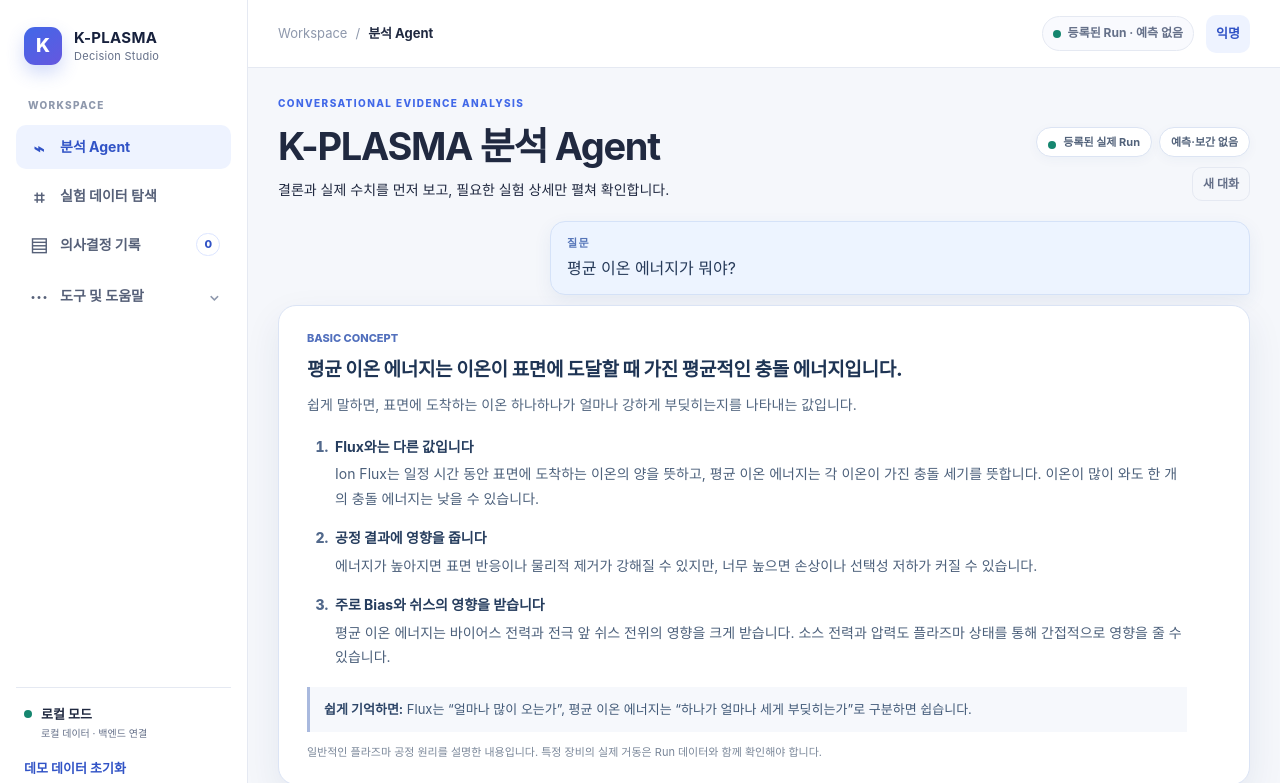
it: late initial decision-list response cannot discard a record saved while the list was loading
Expected: the text "쉽게 기억하면:" is shown, [324,701,403,717]
Click the button "⌗ 실험 데이터 탐색" at (124, 196), box [16,174,231,218]
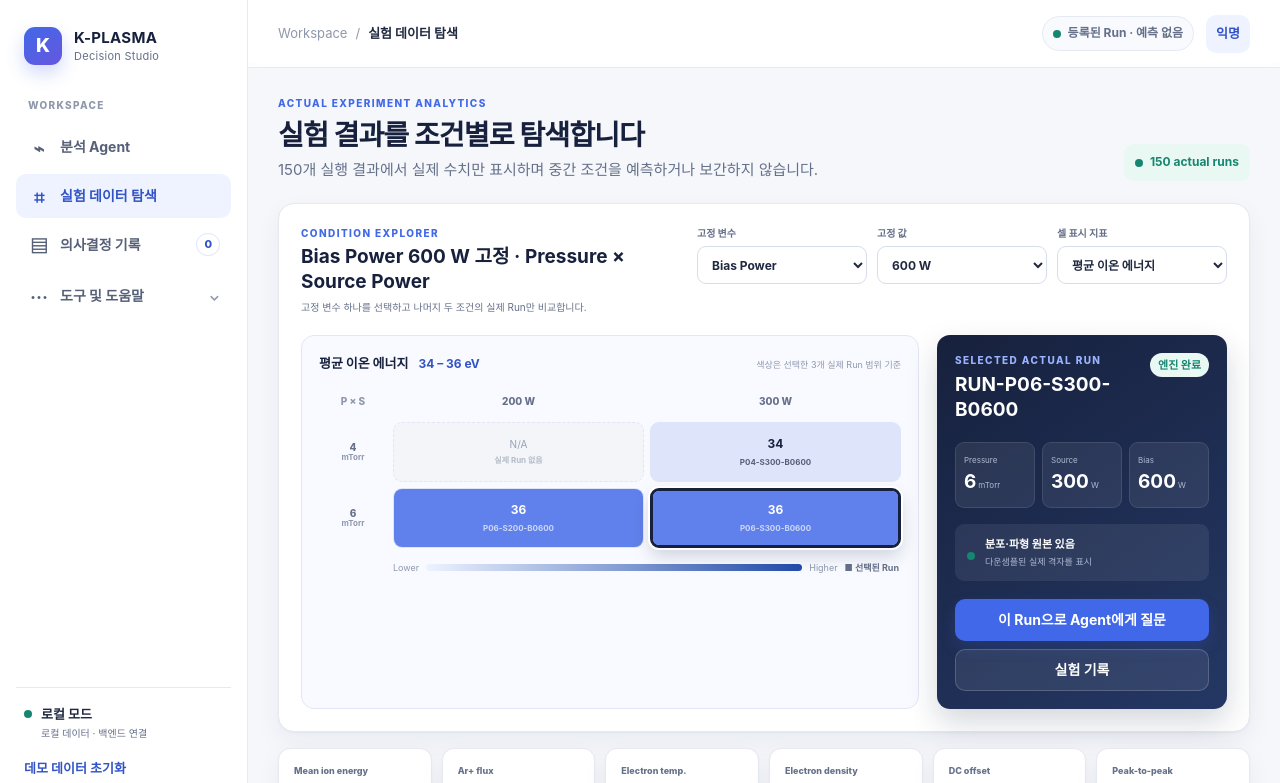
Click the button "실험 기록" at (1082, 670), box [955,649,1209,691]
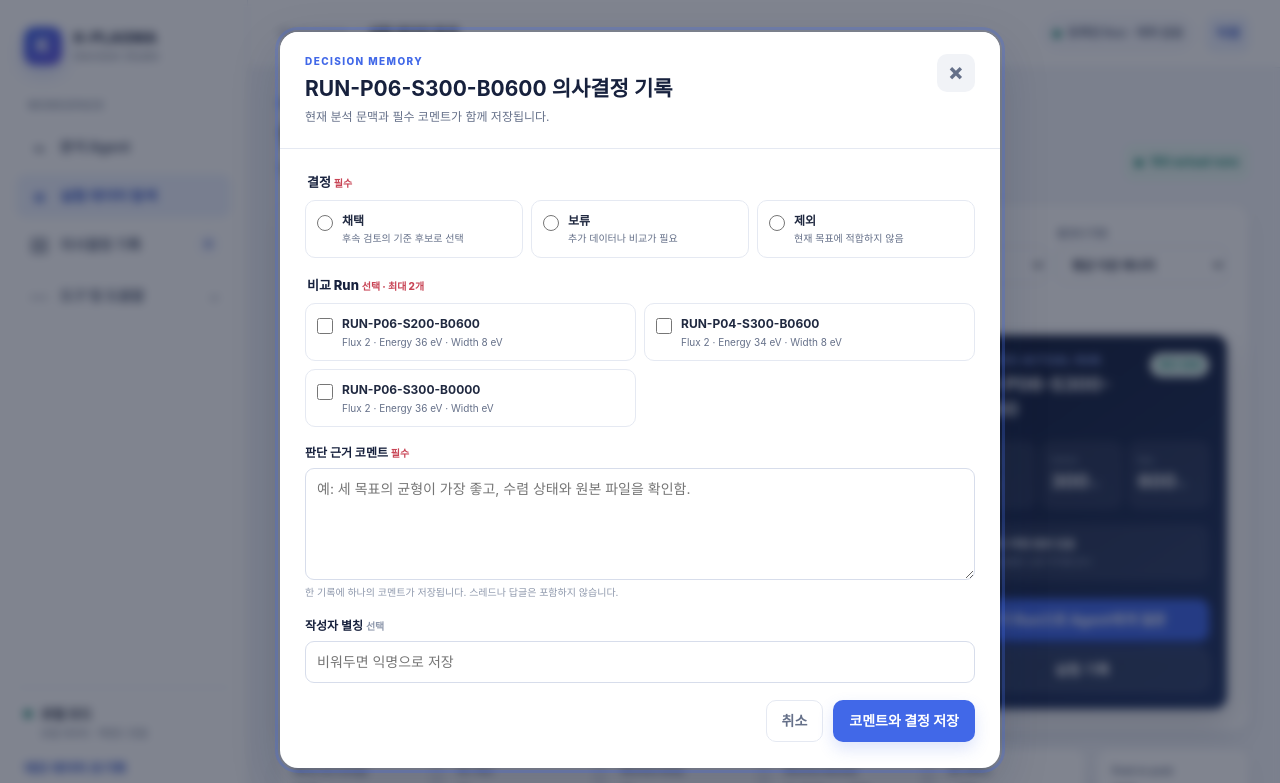
Click the radio button labelled "보류 추가 데이터나 비교가 필요" at (551, 223), box [543,215,559,231]
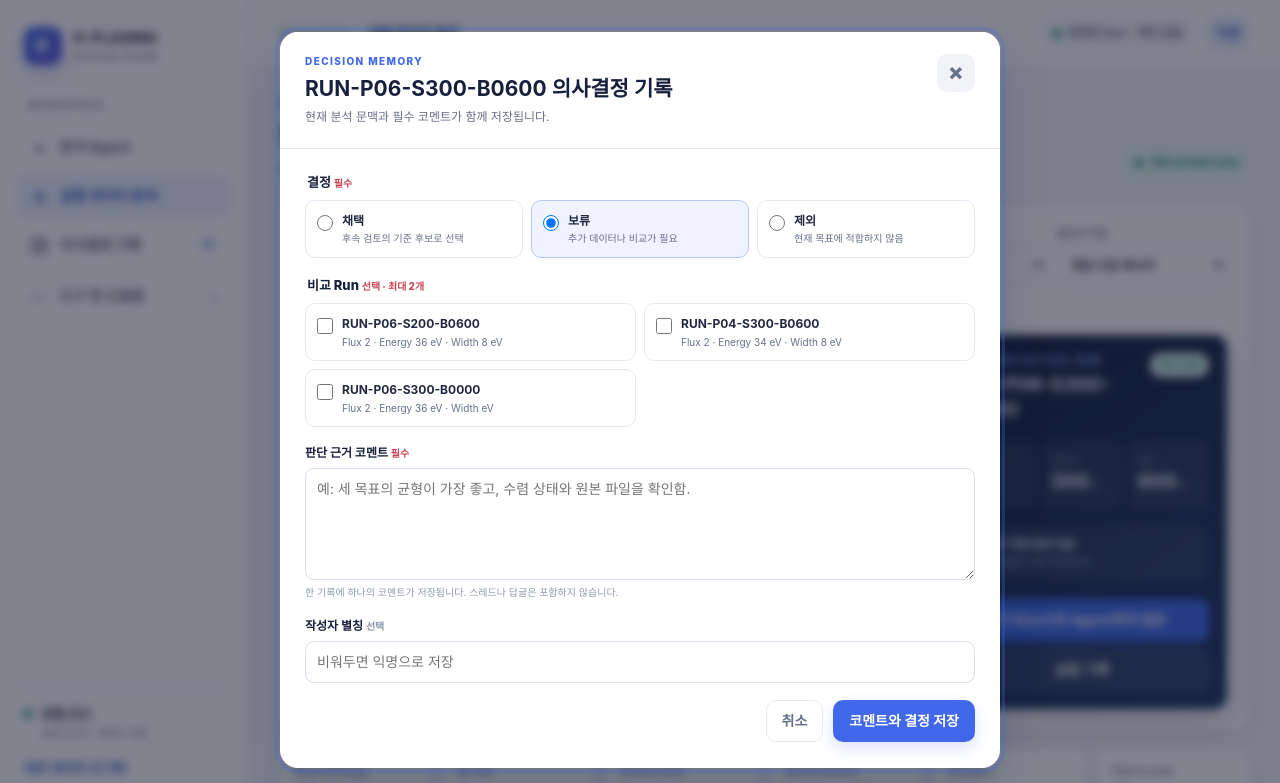
Type "새로 저장한 판단" into the text box labelled "판단 근거 코멘트 필수 한 기록에 하나의 코멘트가 저장됩니다. 스레드나 답글은 포함하지 않습니다." at (640, 524), box [305,468,975,580]
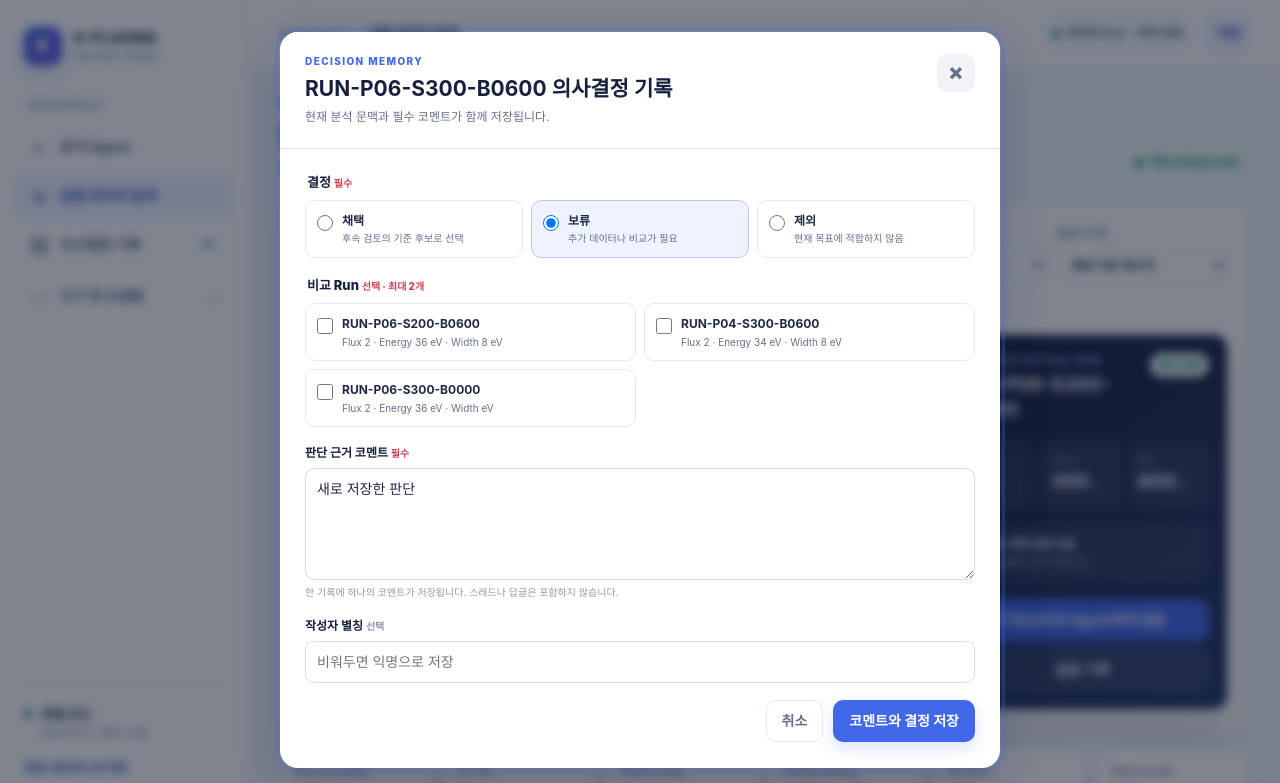
Click the button "코멘트와 결정 저장" at (904, 721), box [833,700,975,742]
(page scrolled)
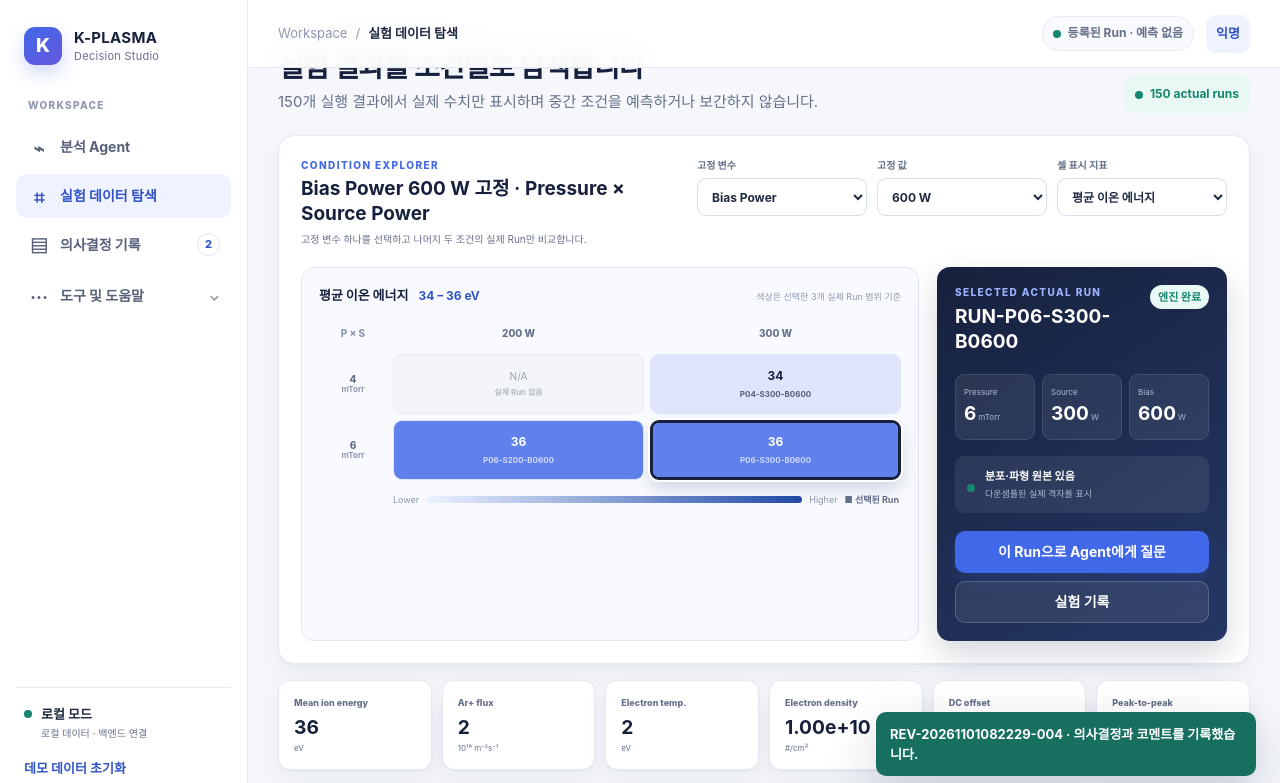
Now the dialog is gone
Click the button "▤ 의사결정 기록 2" at (124, 244), box [16,222,231,266]
(page scrolled)
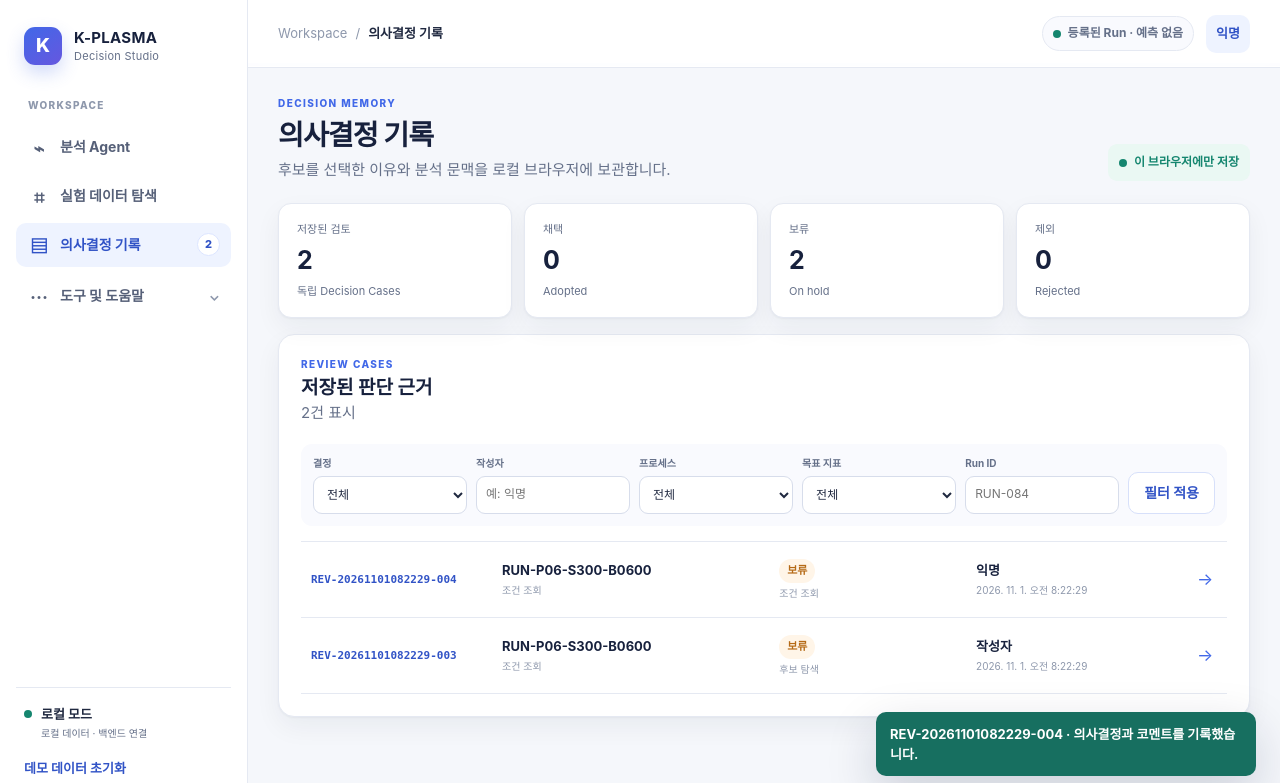
Now the number of buttons with class "archive-row" is 2, box [301,542,1227,618]; [301,618,1227,694]
